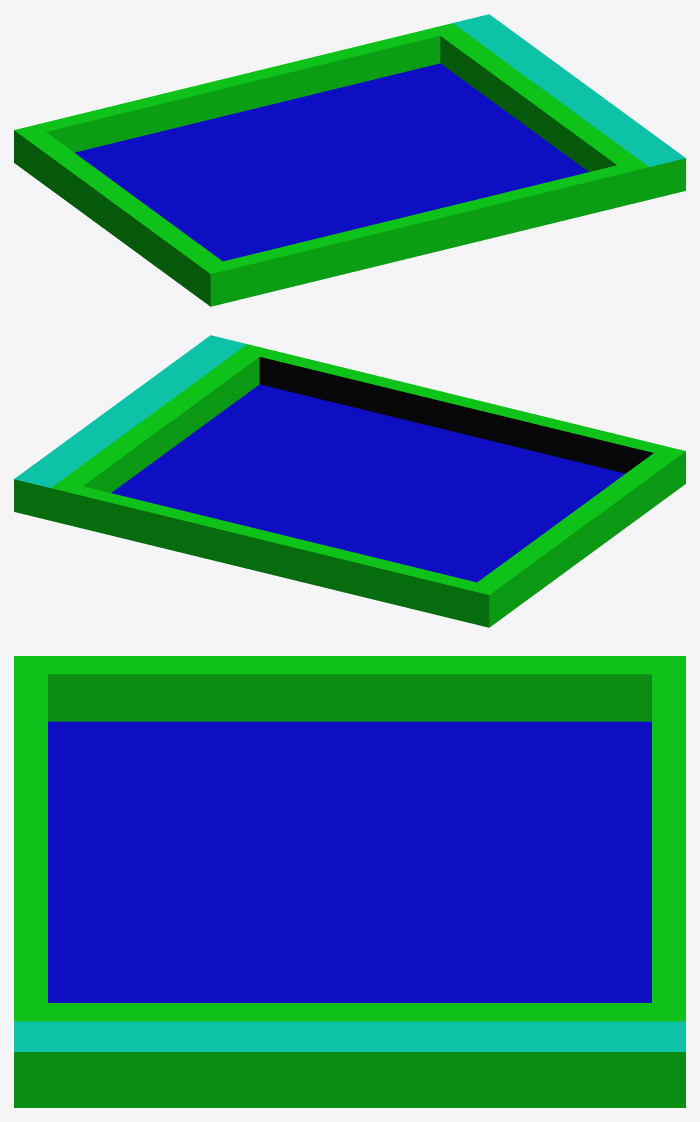
File: SM_cadre.fbx
3 views of the same model, one above another, from view 1: azimuth 30°, elevation 25°; view 2: azimuth 150°, elevation 25°; view 3: azimuth 270°, elevation 25° (orthographic). The views are drawn at different scales.
Parts seen in each view (by area): view 1: pCube1; view 2: pCube1; view 3: pCube1.
Part boxes in pixels (x1,y1,x2,y2): pCube1: (14, 14, 685, 306); pCube1: (14, 335, 685, 627); pCube1: (14, 656, 685, 1107).
Size of the model in its own units: 108 by 7.12 by 77.69.
